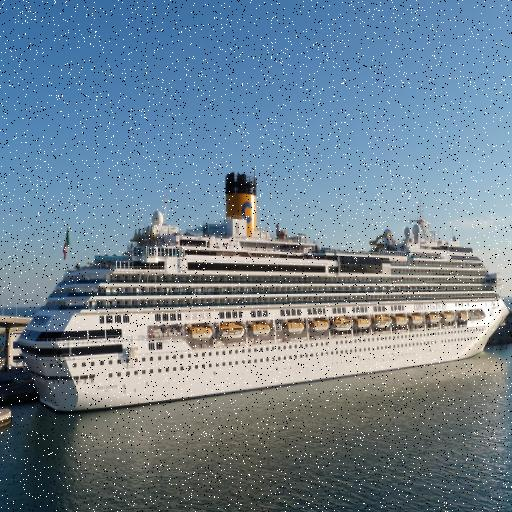cruises: (16, 168, 512, 420)
